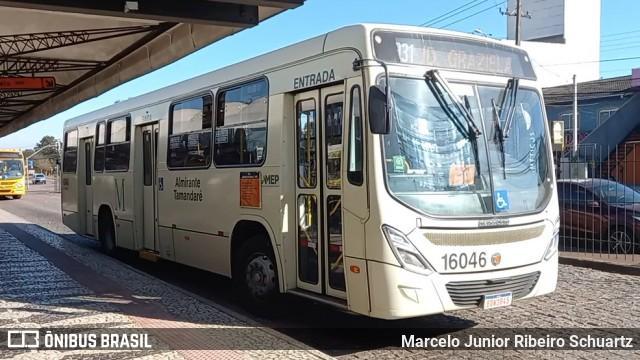JD GRAZIELA: (416, 43, 515, 78)
